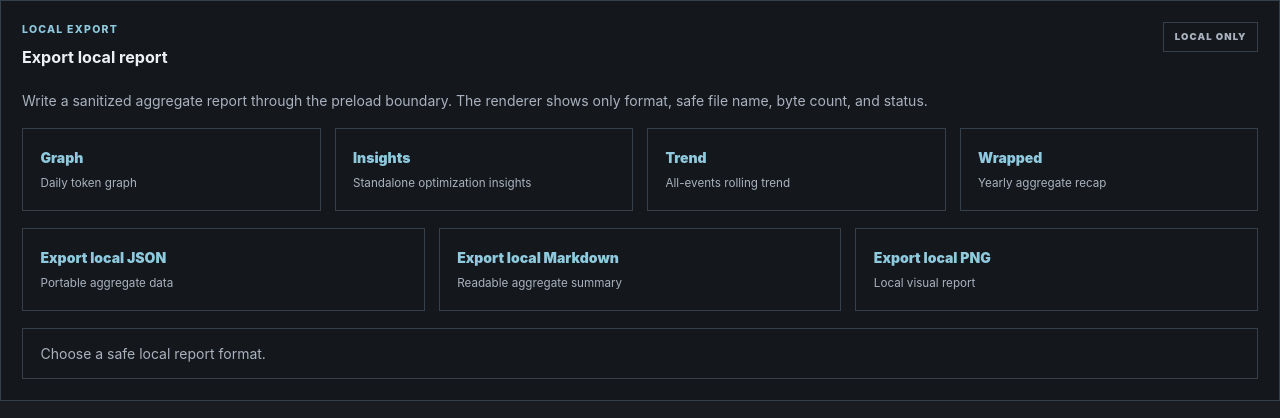
Test: desktop share report panel › exports local JSON, Markdown, and PNG reports through the preload API
What coordinates should you click on to do the following:
click the button "Export local JSON"
I would click on:
 (103, 257)
Its box is [22,228,425,311].
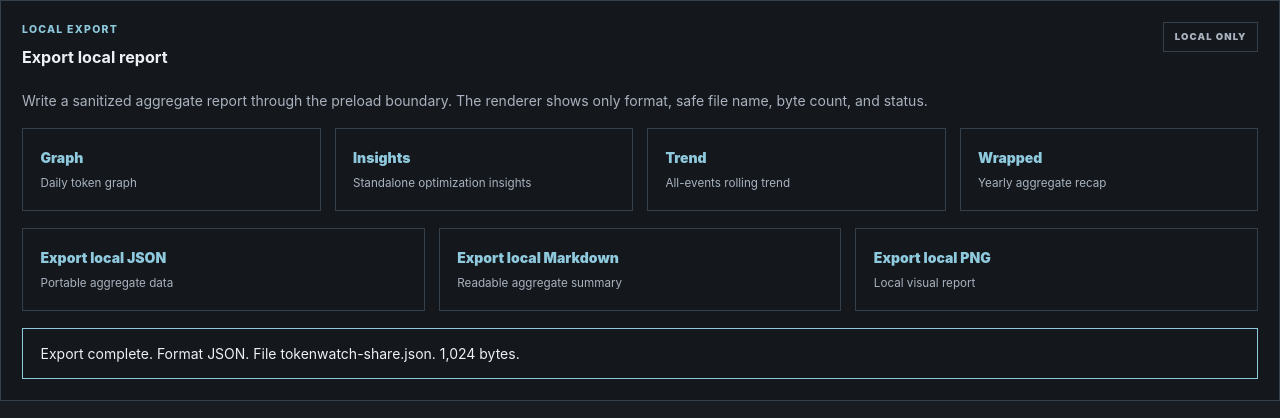
expect the element named "Local export status" shows "Export complete": met, box [40,345,520,362]
What coordinates should you click on to do the following:
click the button "Export local Markdown"
I would click on:
 (538, 257)
Its box is [439,228,841,311].
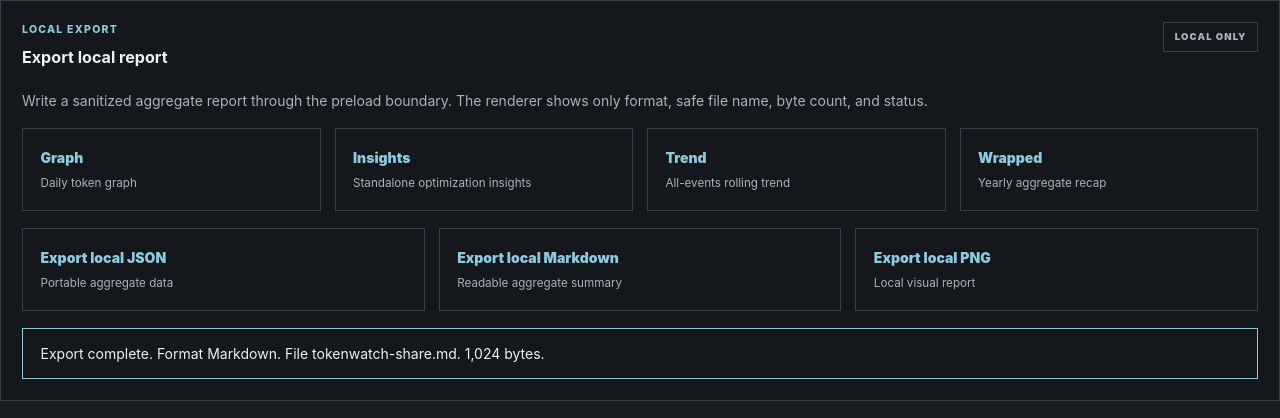
expect the element named "Local export status" shows "Export complete": met, box [40,345,545,362]
What coordinates should you click on to do the following:
click the button "Export local PNG Local visual report"
I would click on:
 (932, 257)
Its box is [855,228,1258,311].
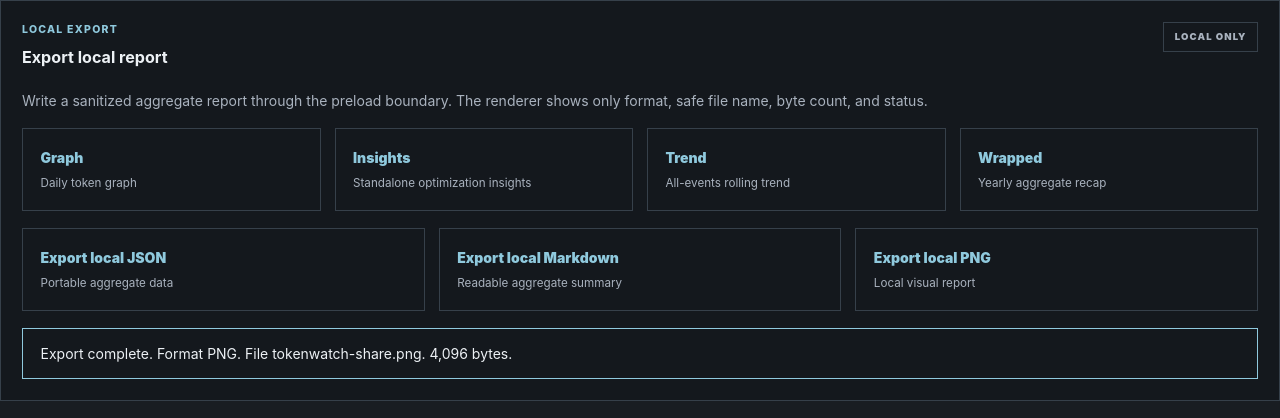
expect the element named "Local export status" shows "Export complete": met, box [40,345,512,362]
expect the element labelled "Export local report" shows "File tokenwatch-share.png": met, box [40,345,512,362]
expect the element labelled "Export local report" shows "4,096 bytes": met, box [40,345,512,362]
